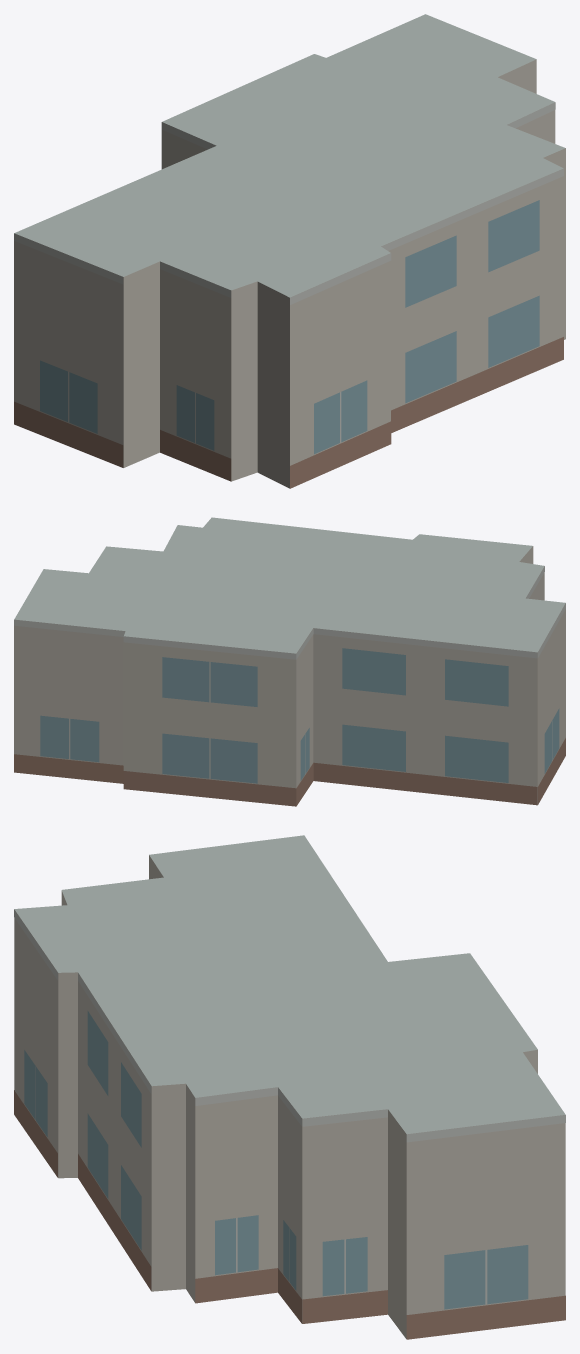
The model's file is survey-upis-32670934.glb.
The picture shows the model from 3 angles, top to bottom: view 1: azimuth 30°, elevation 25°; view 2: azimuth 150°, elevation 25°; view 3: azimuth 270°, elevation 25°; orthographic projection. The views are drawn at different scales.
Parts seen in each view (by area): view 1: survey-upis-32670934.tmp; view 2: survey-upis-32670934.tmp; view 3: survey-upis-32670934.tmp.
Boxes of the visible parts, x1=… form: survey-upis-32670934.tmp: x1=14, y1=14, x2=565, y2=488; survey-upis-32670934.tmp: x1=14, y1=517, x2=565, y2=806; survey-upis-32670934.tmp: x1=14, y1=835, x2=565, y2=1339.
Size of the model in its own units: 19.06 by 6.1 by 14.86.
